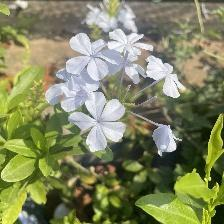chitrak: (71, 94, 129, 156), (49, 66, 105, 112), (67, 31, 120, 76), (147, 56, 186, 101), (106, 32, 155, 61)
